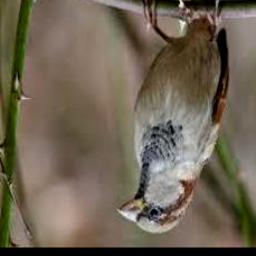Sparrow: (117, 0, 228, 233)
